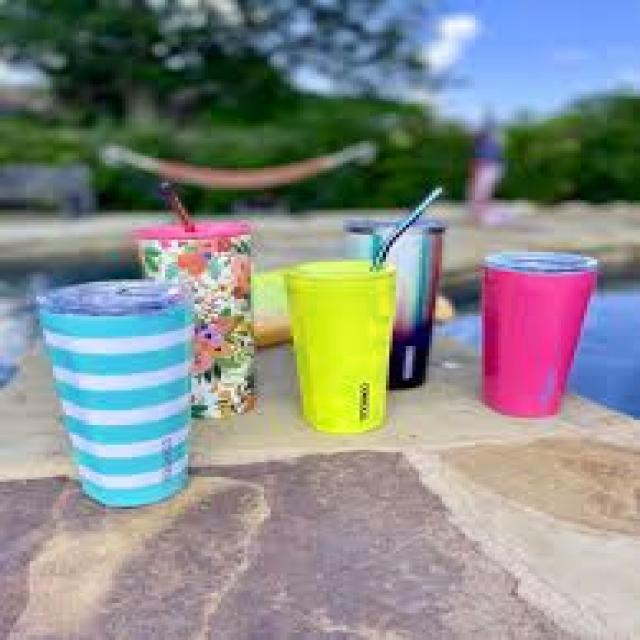bottle: (44, 276, 198, 508), (134, 226, 261, 420), (284, 259, 398, 435), (480, 252, 598, 418), (344, 220, 443, 390)
